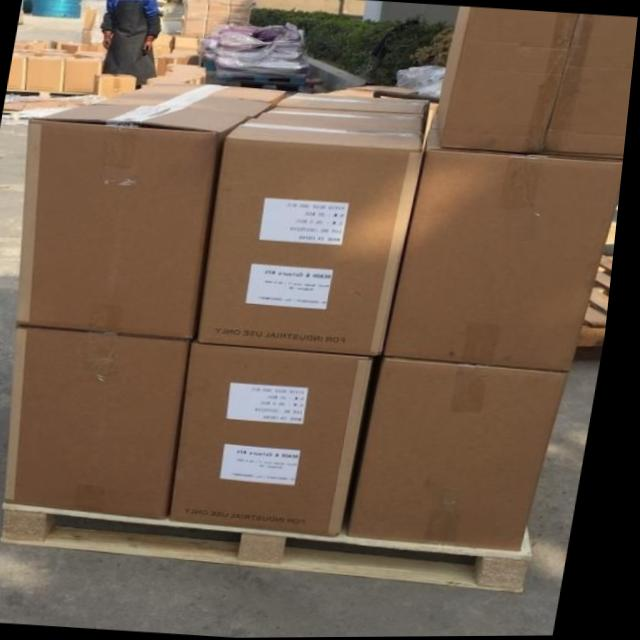box: (386, 100, 627, 372), (207, 106, 432, 355), (22, 100, 259, 335), (357, 357, 573, 552), (181, 338, 385, 535), (14, 328, 199, 518), (442, 10, 638, 156), (88, 87, 272, 116), (136, 81, 290, 105), (278, 92, 432, 115), (180, 0, 249, 42), (152, 31, 203, 84), (14, 37, 102, 59), (64, 56, 105, 94), (27, 57, 69, 94), (251, 0, 339, 16), (97, 73, 137, 98), (10, 56, 31, 94), (336, 1, 366, 17)
